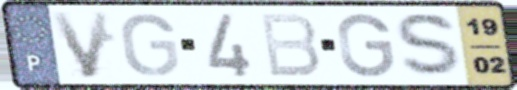4: (204, 11, 255, 79)
B: (257, 11, 324, 79)
G: (117, 11, 182, 78), (335, 11, 398, 80)
S: (392, 11, 470, 81)
V: (46, 9, 114, 81)
